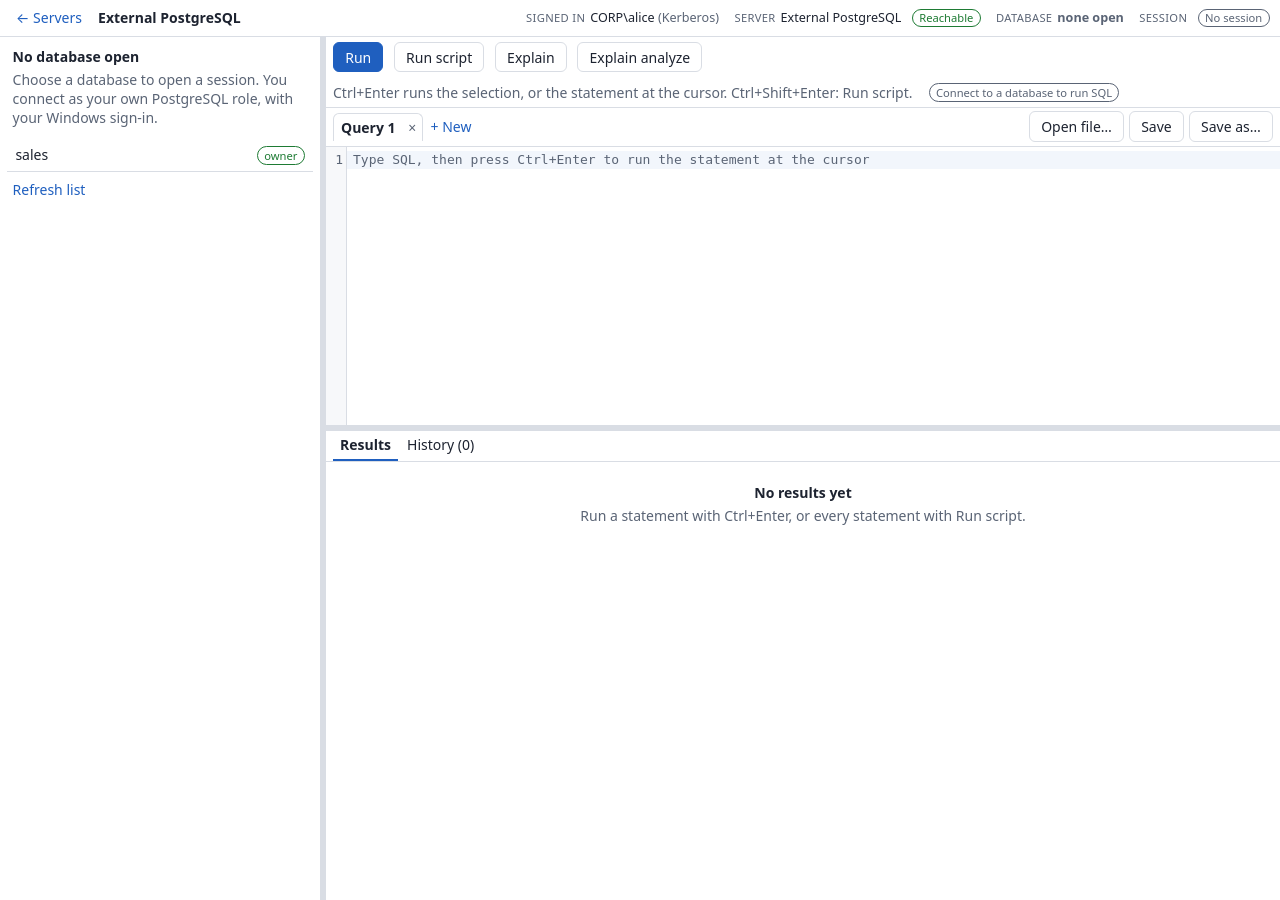
Scenario: Workspace administration (admin Phase 3) › Explain shows the plan of the statement at the cursor without running it
Click the button "sales owner": {"x": 32, "y": 155} [7,139,313,172]
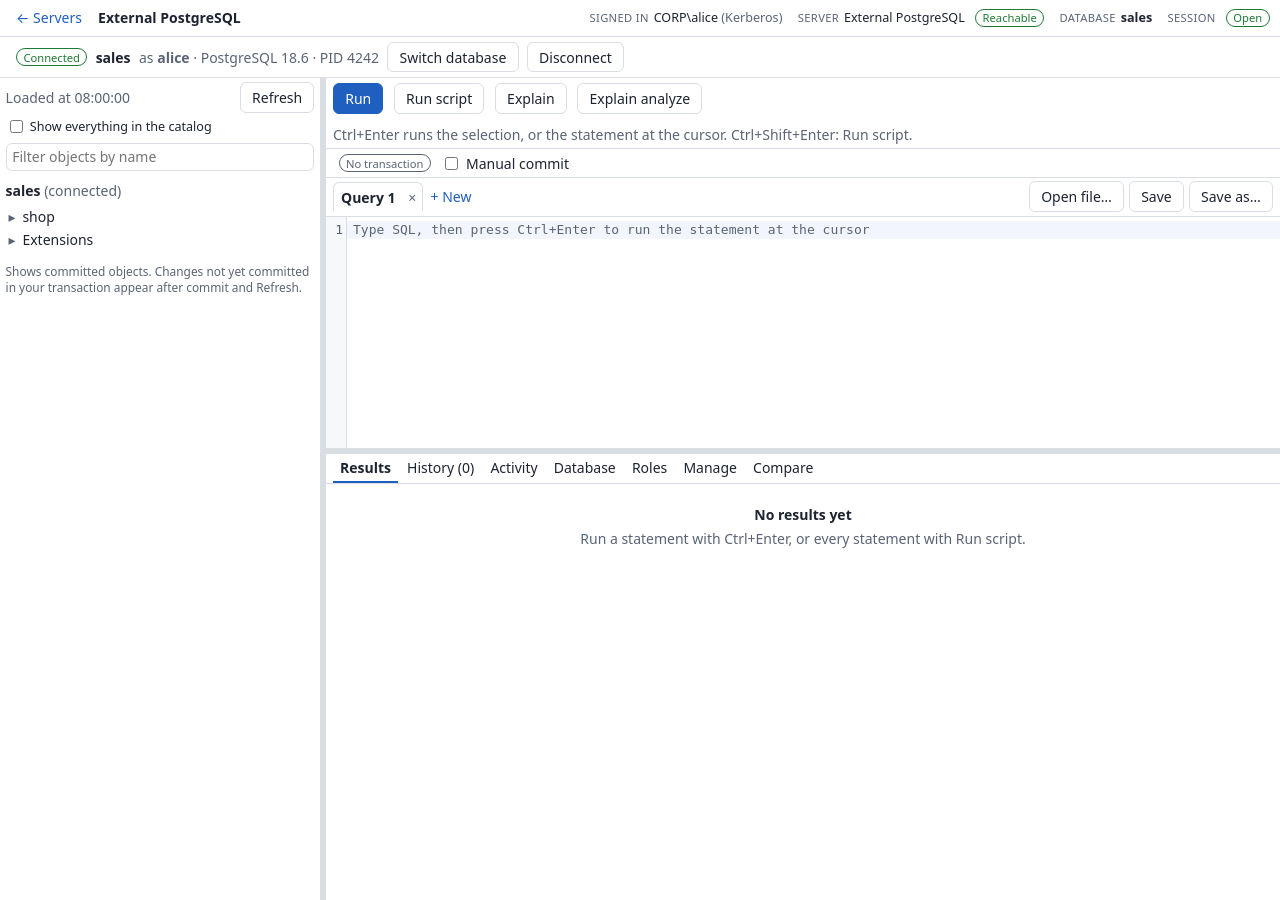
Result: the button "Switch database" is shown at [387,42,518,72]
Click the field named "SQL editor": {"x": 814, "y": 230} [347,221,1279,239]
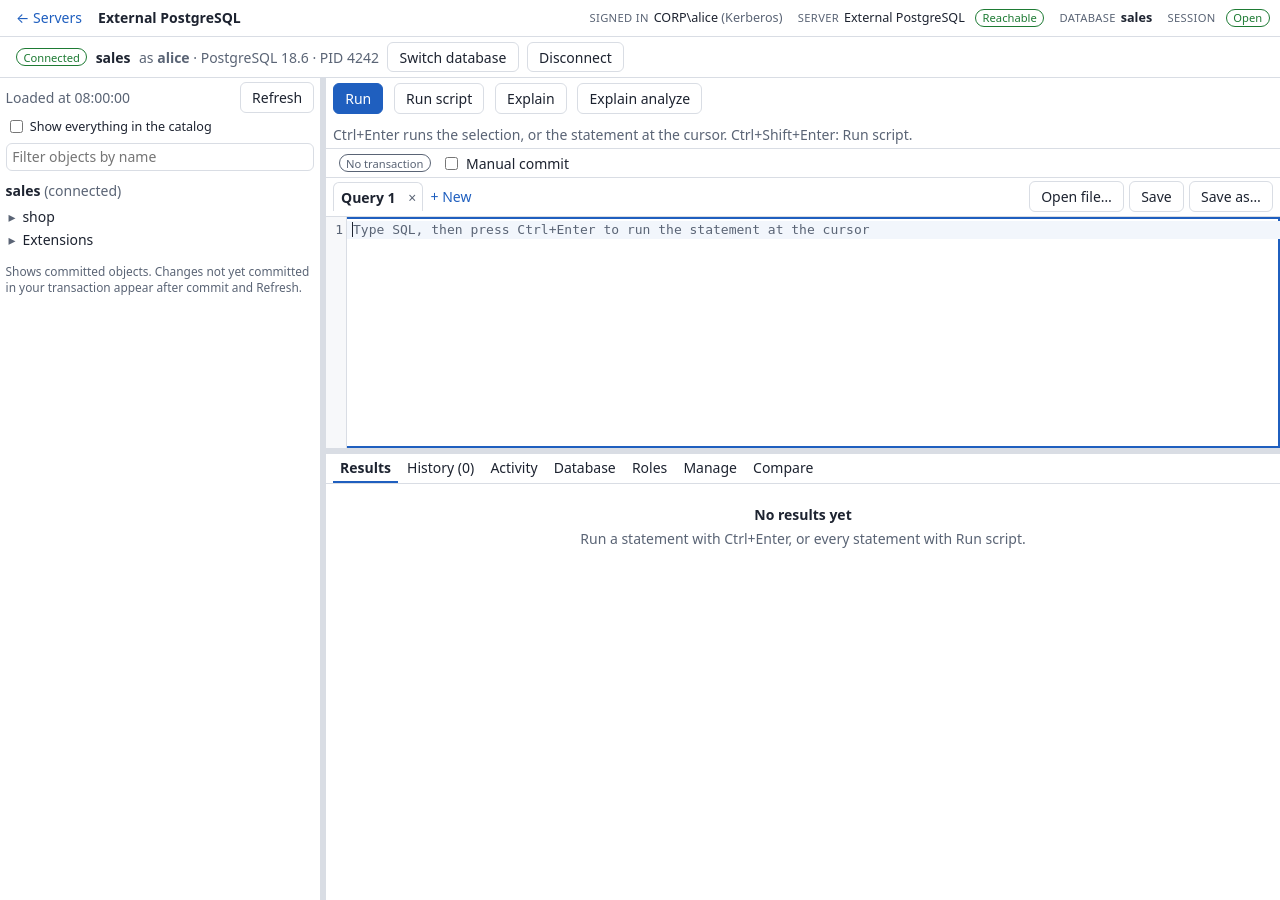
Type keys "SELECT * FROM orders"
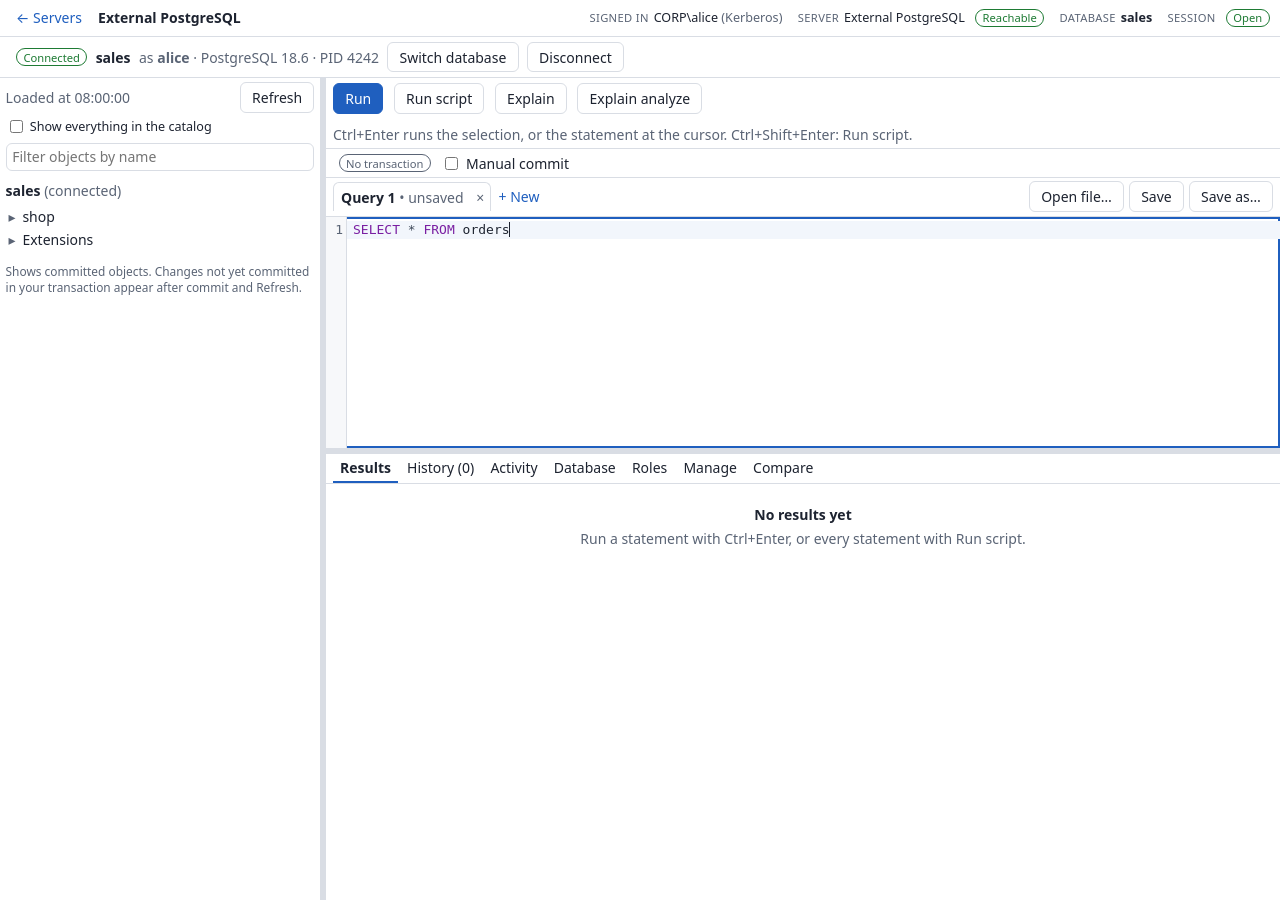
Click the button "Explain": {"x": 531, "y": 99} [495,83,567,114]
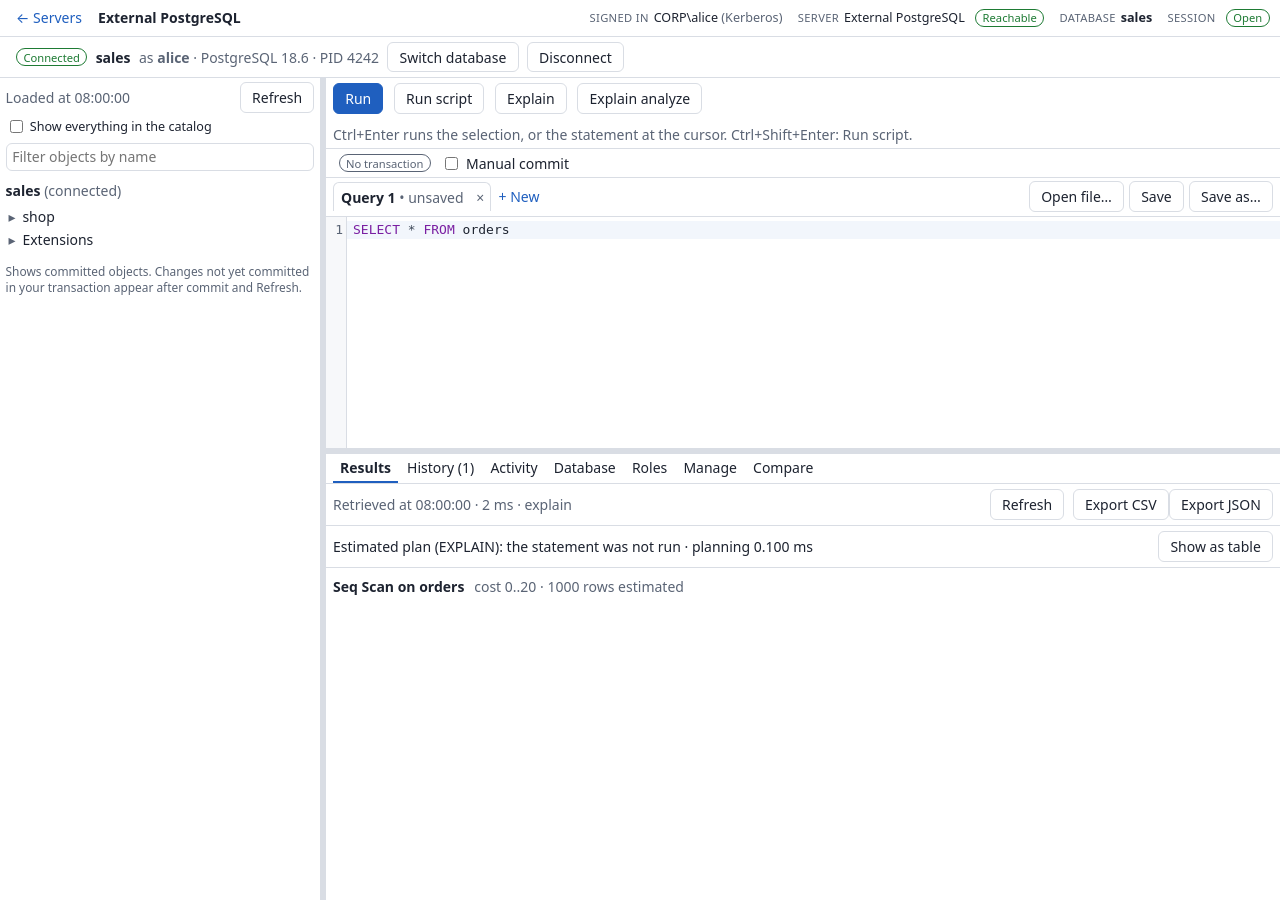
Result: the list named "Query plan" is shown at [333,577,684,596]
Result: the text "Seq Scan on orders" is shown at [333,577,464,596]
